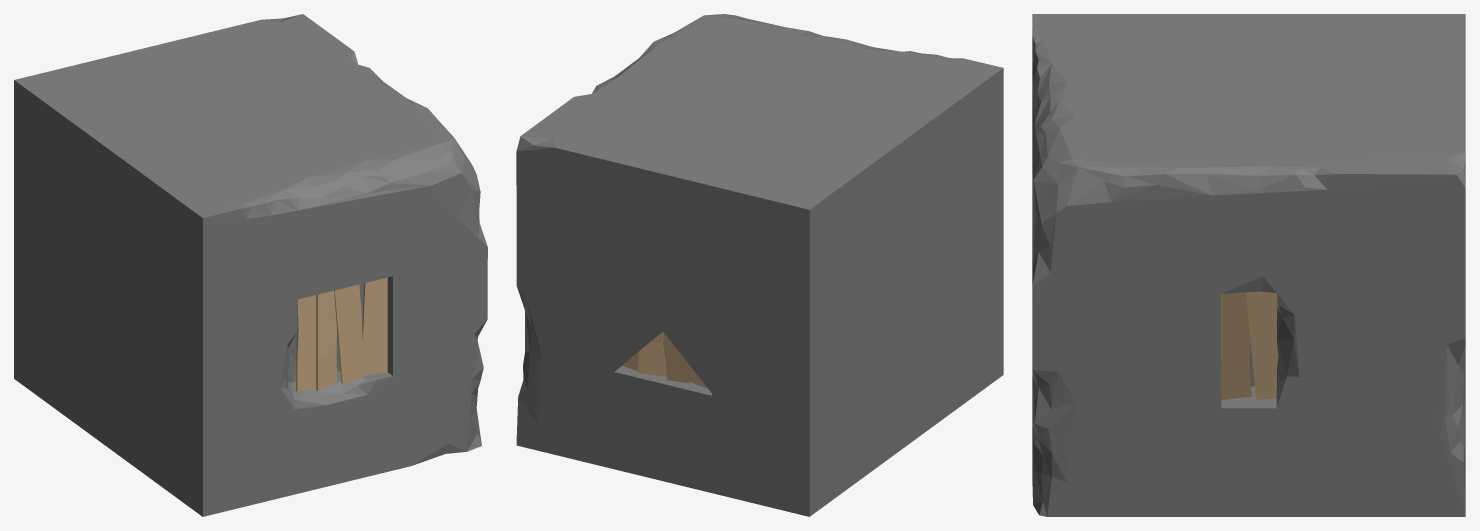
The model's file is SM_house_egypt_05.fbx.
The picture shows the model from 3 angles, left to right: view 1: azimuth 30°, elevation 25°; view 2: azimuth 150°, elevation 25°; view 3: azimuth 270°, elevation 25°; orthographic projection. The views are drawn at different scales.
Parts seen in each view (by area): view 1: Group57470; view 2: Group57470; view 3: Group57470.
Part boxes in pixels (x1,y1,x2,y2): Group57470: (14, 14, 487, 516); Group57470: (516, 14, 1003, 516); Group57470: (1032, 14, 1465, 516).
Bounding box in the file's own units: 118 × 135 × 118.
